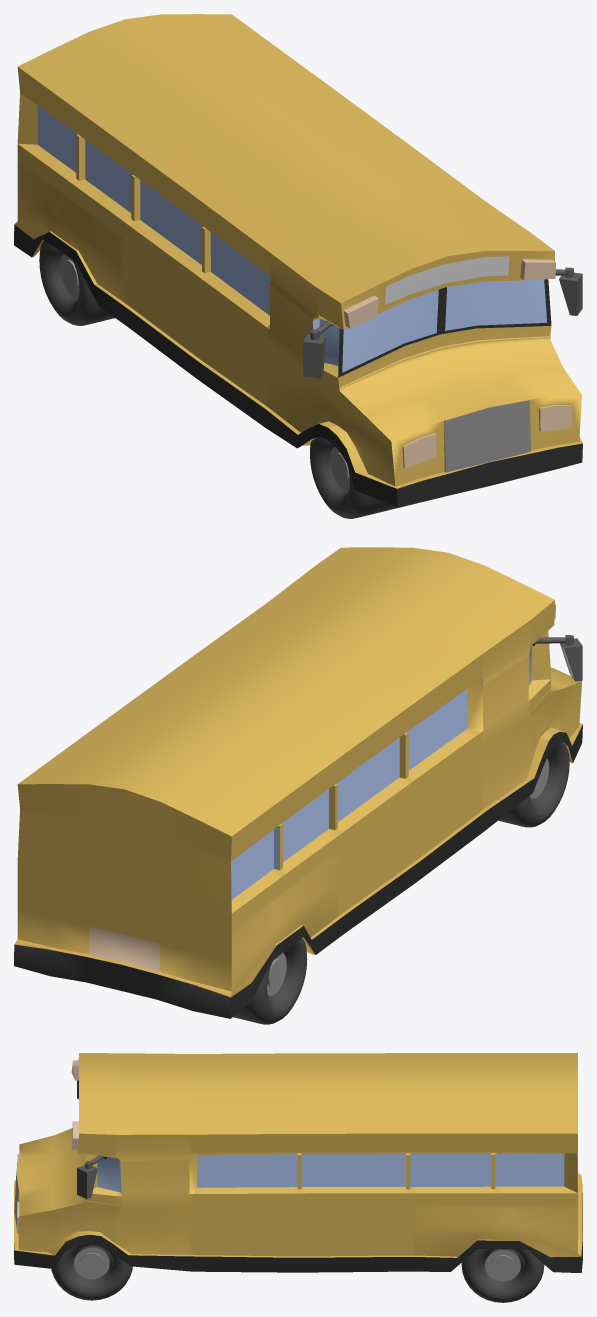
The model's file is BUS.fbx.
The picture shows the model from 3 angles, top to bottom: view 1: azimuth 30°, elevation 25°; view 2: azimuth 150°, elevation 25°; view 3: azimuth 270°, elevation 25°; orthographic projection. The views are drawn at different scales.
Parts seen in each view (by area): view 1: Cube.001, back tires, front tires, Mirror_001; view 2: Cube.001, back tires, front tires, Mirror_001; view 3: Cube.001, back tires, front tires, Mirror_001.
Boxes of the visible parts, x1,y1,x2,y2 form: Cube.001: [14, 14, 582, 507]; back tires: [39, 240, 114, 325]; front tires: [310, 437, 416, 518]; Mirror_001: [303, 267, 582, 378]; Cube.001: [14, 547, 582, 1018]; back tires: [233, 938, 307, 1024]; front tires: [498, 742, 569, 827]; Mirror_001: [532, 635, 582, 681]; Cube.001: [14, 1053, 582, 1273]; back tires: [461, 1249, 544, 1302]; front tires: [51, 1244, 132, 1300]; Mirror_001: [77, 1080, 106, 1199].
Bounding box in the file's own units: 456 × 377 × 1041.
